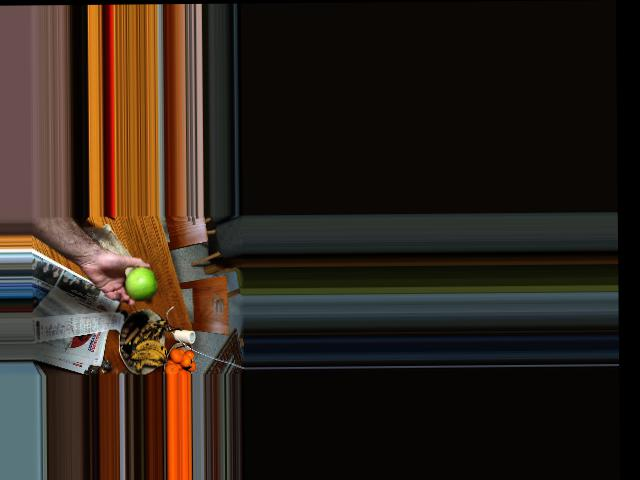apple: (121, 263, 160, 301)
